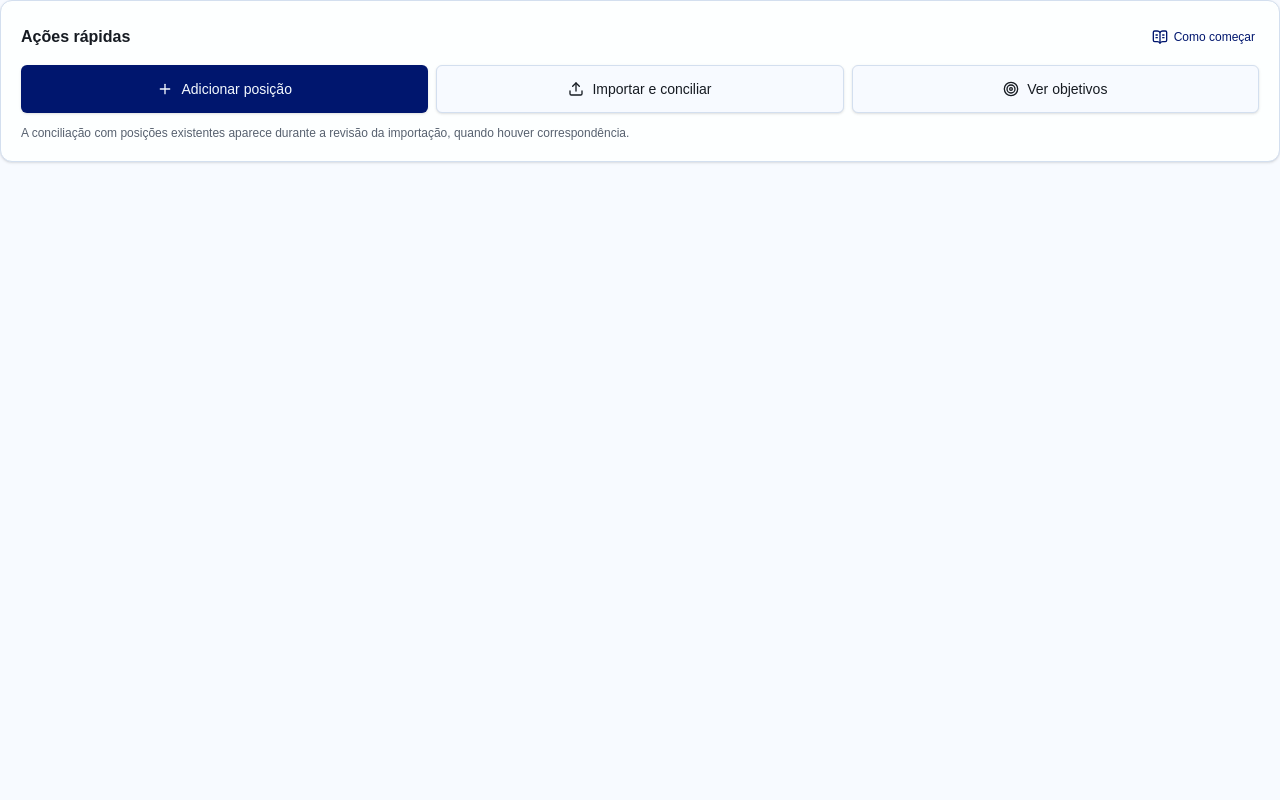
Test: DashboardQuickActions › closes the onboarding guide before opening manual position entry
Click the button "Como começar" at {"x": 1203, "y": 37}, box [1140,21,1267,53]
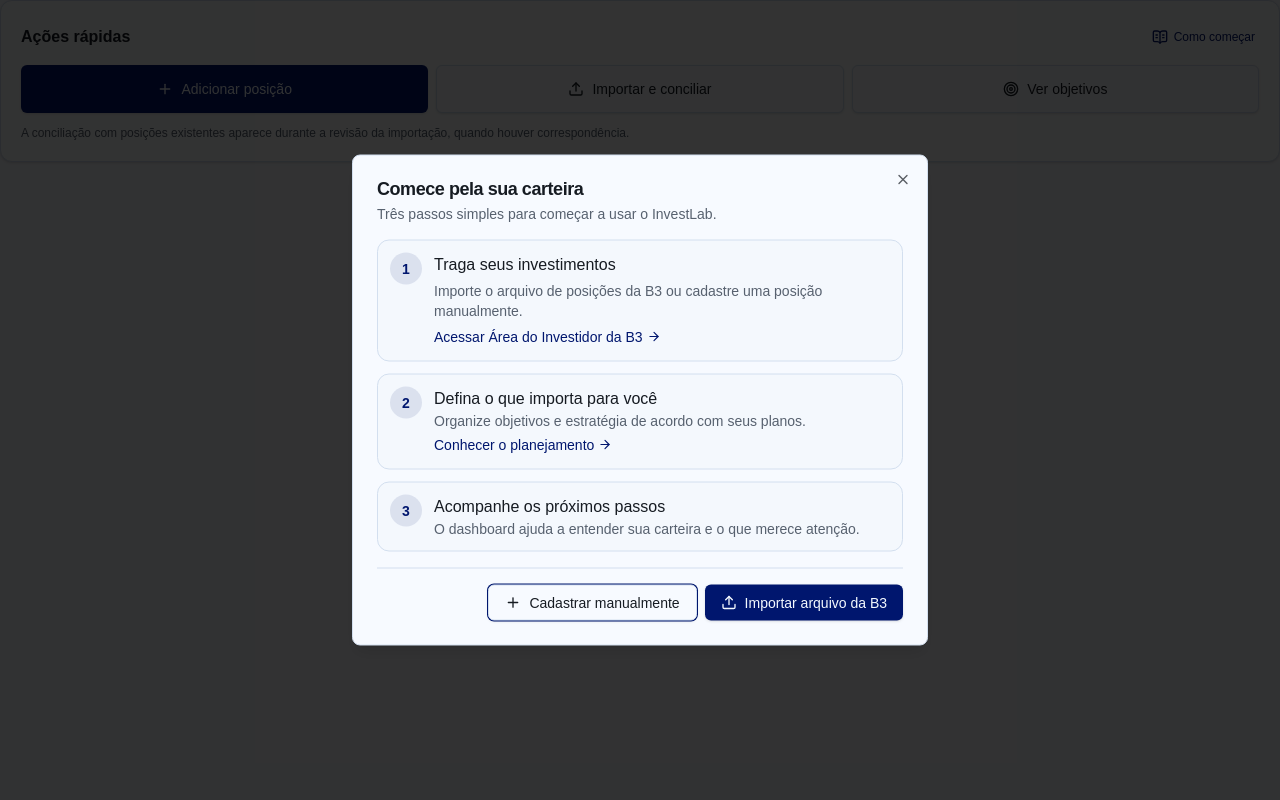
Check: the dialog is shown, box [352,154,928,646]
Click the button "Cadastrar manualmente" at {"x": 592, "y": 602}, box [488,584,697,620]
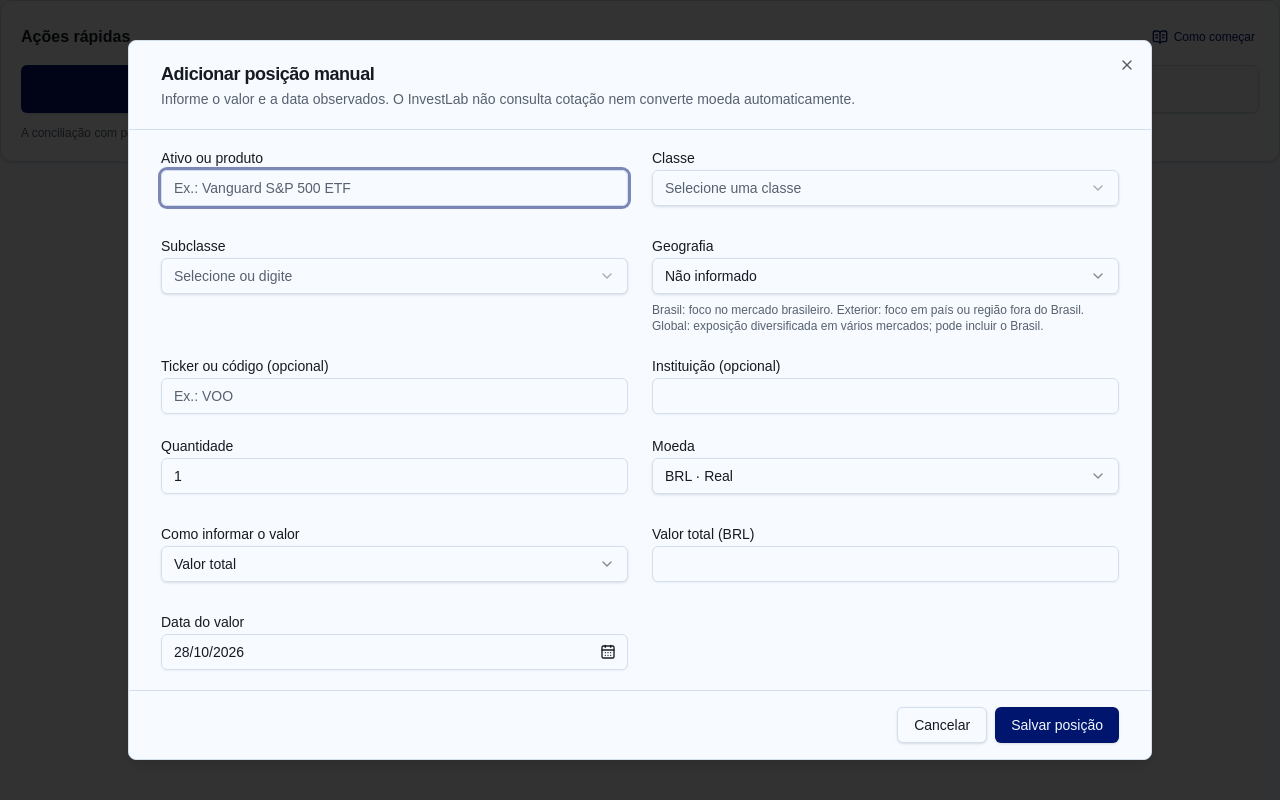
Check: the dialog "Adicionar posição manual" is shown
